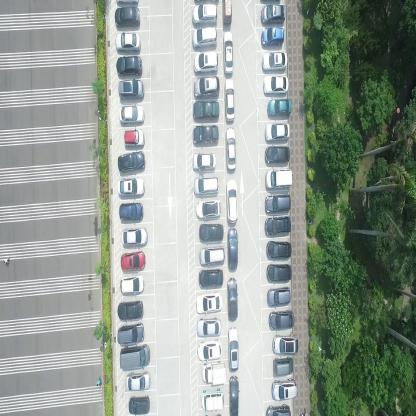car: (120, 341, 150, 370), (196, 288, 223, 312), (117, 151, 146, 173), (270, 377, 296, 401), (193, 75, 220, 98), (117, 320, 144, 343), (193, 2, 217, 27), (195, 196, 221, 219), (117, 296, 143, 319), (202, 359, 225, 385), (118, 78, 145, 100), (265, 168, 292, 190), (114, 6, 141, 28), (226, 324, 238, 372), (200, 387, 224, 411), (192, 26, 217, 49), (199, 243, 225, 265), (116, 55, 142, 77), (272, 334, 298, 356), (117, 176, 145, 196), (199, 219, 223, 242), (193, 51, 218, 73), (196, 316, 221, 338), (192, 124, 218, 145), (122, 224, 148, 245), (260, 3, 286, 24), (264, 193, 290, 214), (224, 125, 236, 170), (225, 177, 237, 222), (263, 216, 290, 236), (267, 310, 294, 330), (122, 248, 146, 270), (198, 338, 222, 360), (198, 267, 223, 288), (261, 52, 287, 72), (265, 240, 291, 260), (192, 150, 216, 171), (192, 101, 220, 119), (266, 286, 290, 307), (120, 104, 145, 124), (116, 32, 141, 52), (227, 225, 238, 270), (222, 29, 233, 74), (226, 277, 237, 322), (264, 124, 290, 143), (265, 264, 291, 283), (263, 146, 290, 164), (224, 77, 235, 121), (121, 273, 145, 293), (266, 99, 290, 119), (126, 370, 150, 390), (119, 202, 144, 221), (263, 75, 288, 94), (128, 394, 150, 415), (261, 26, 284, 46), (193, 176, 219, 193), (272, 356, 292, 378), (124, 128, 146, 147), (229, 375, 239, 415), (266, 403, 290, 415), (221, 0, 232, 25)
